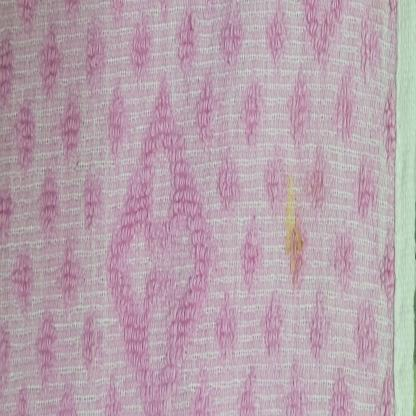spot: (284, 171, 306, 284)
